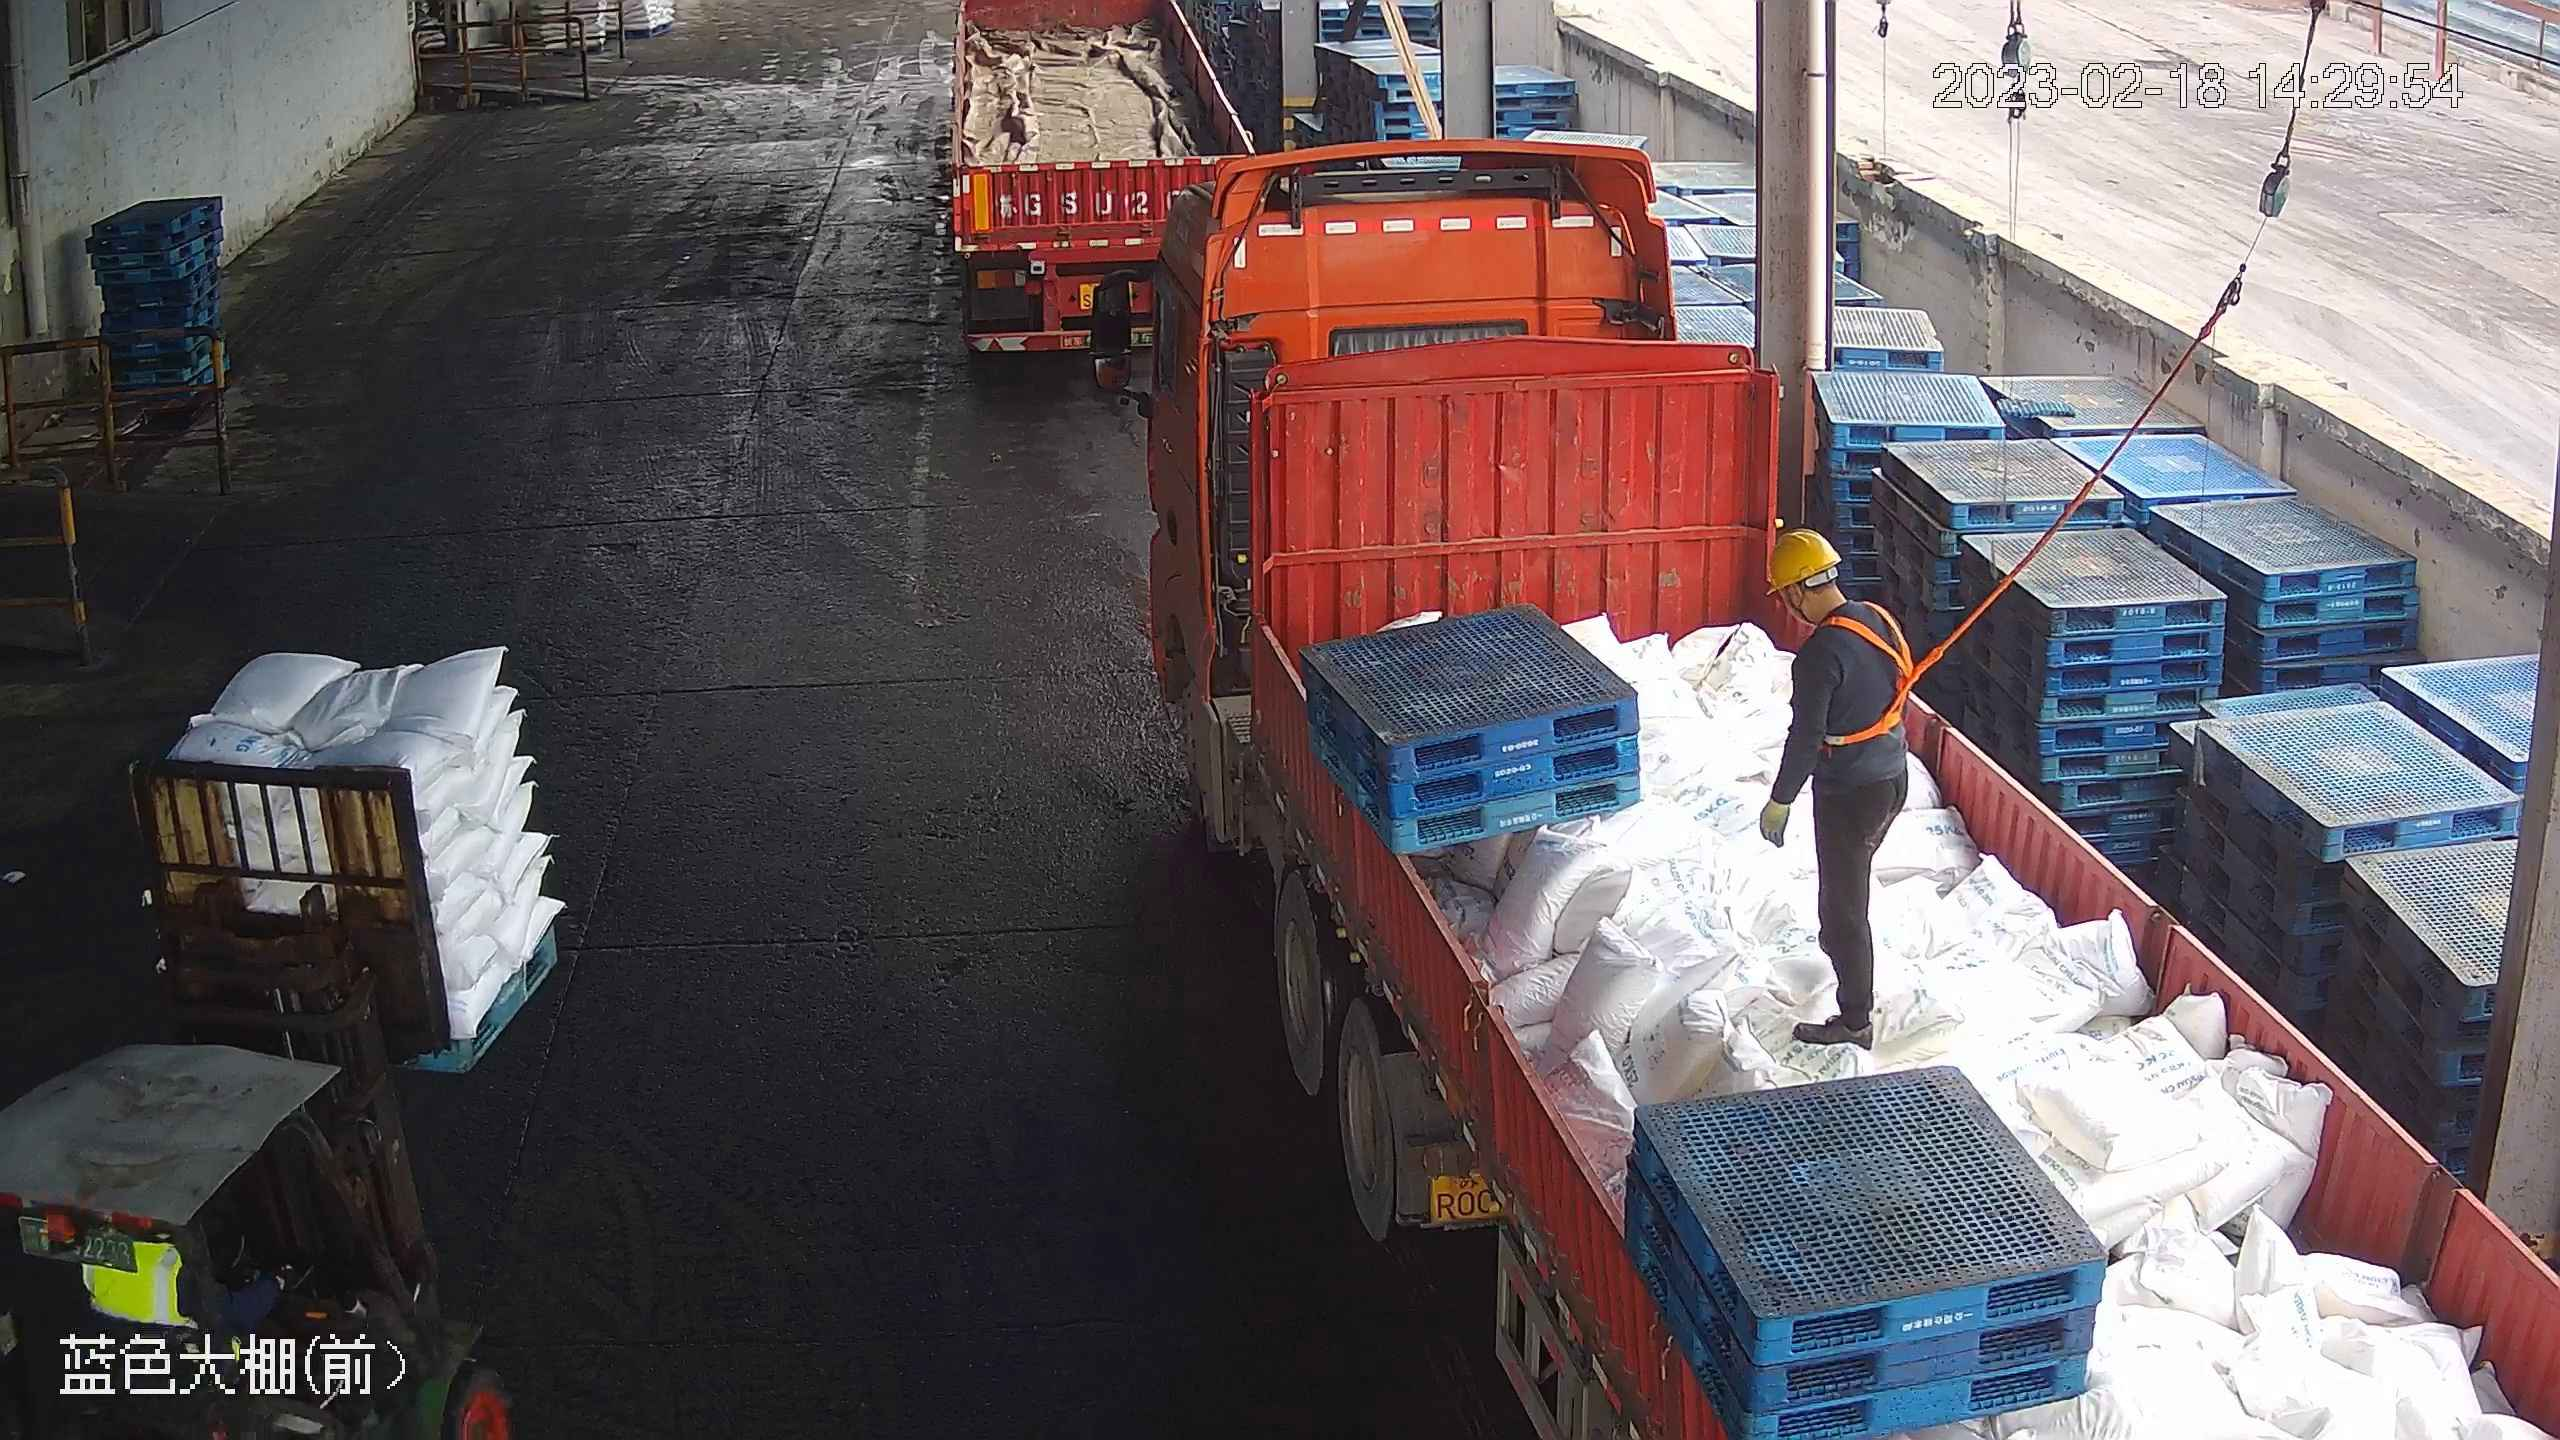belt: (1817, 604, 1931, 750)
head: (1766, 526, 1916, 694)
helmet: (1765, 527, 1843, 590)
people: (1755, 524, 1922, 1053)
truck: (1066, 155, 2560, 1436), (946, 1, 1267, 360)
